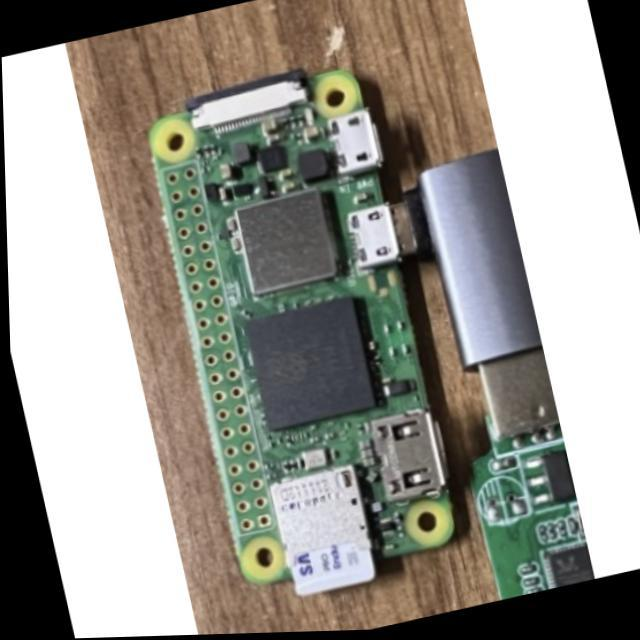Raspberry-Pi-Zero-2-W: (149, 72, 454, 594)
